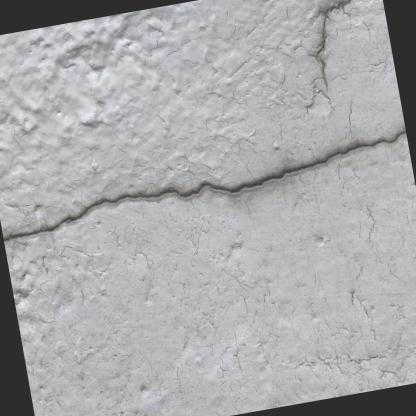crack: (2, 125, 404, 239)
